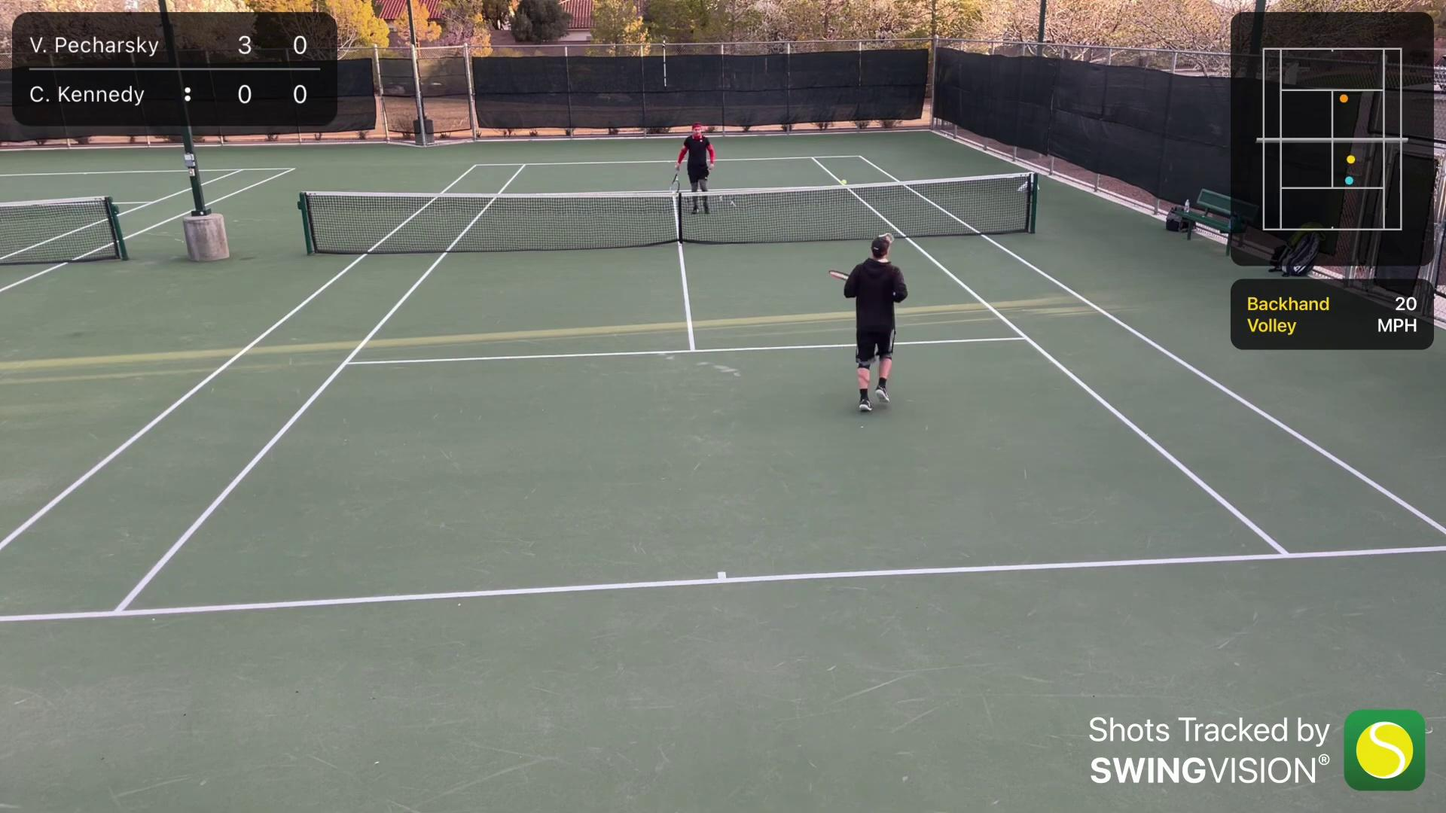ball: (864, 403, 872, 415), (840, 178, 848, 184)
